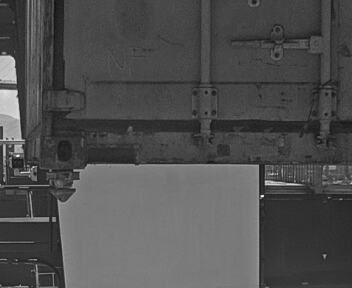twist_lock_2: (40, 169, 87, 209)
